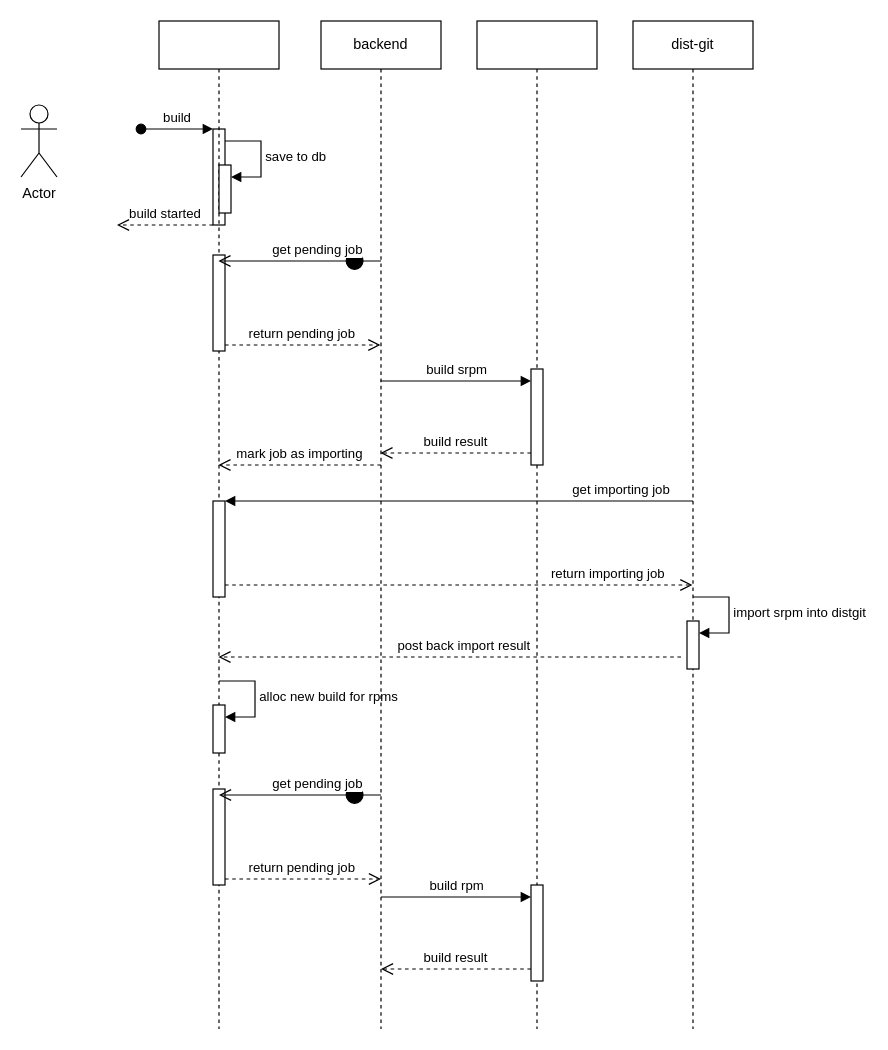
The diagram is 888 pixels wide and 1050 high, and some of its shapes have lost their labels. Each missing label, with the box of its shape:
builder: (476, 20, 597, 1029)
frontend: (158, 20, 279, 1029)
